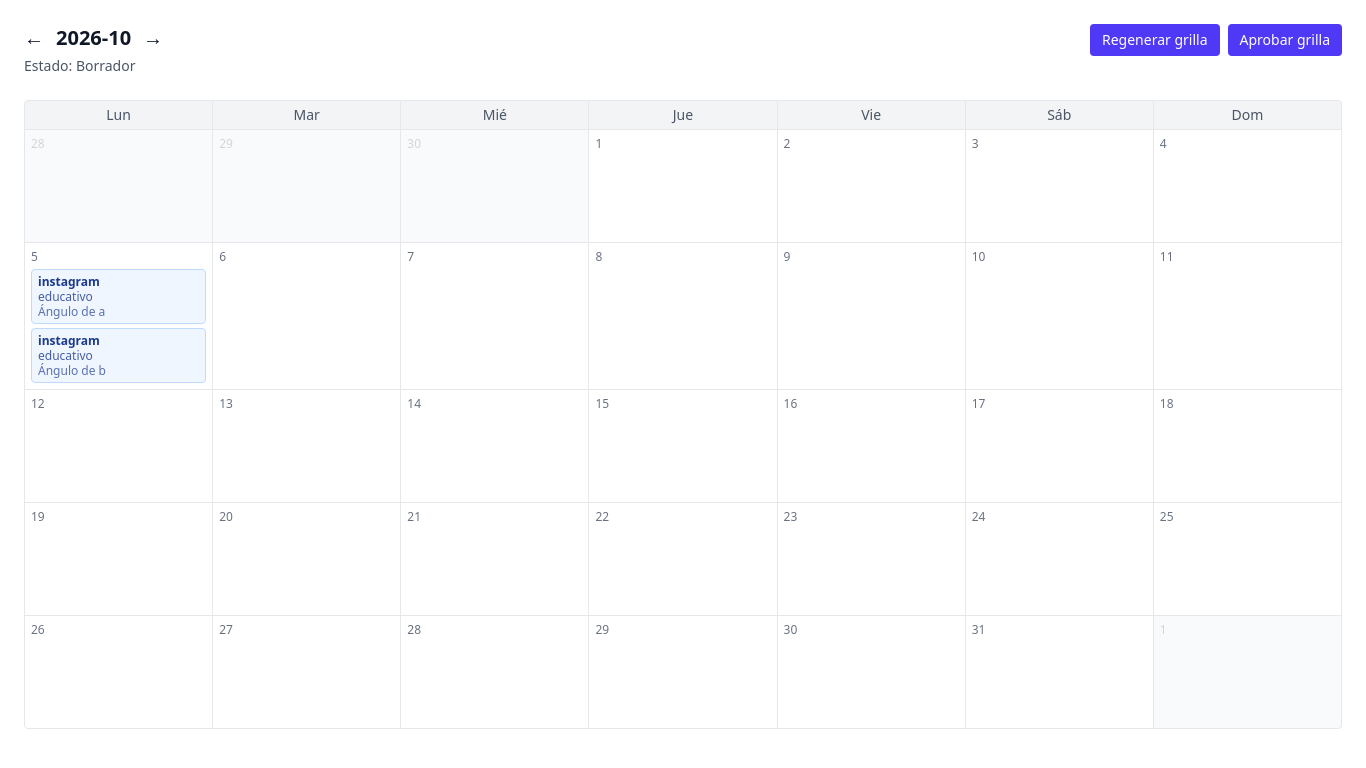
la advertencia de regenerar la grilla › no habla de descartes cuando no hay ninguno
Click the button "Regenerar grilla".
click(1155, 40)  # box [1090,24,1220,56]
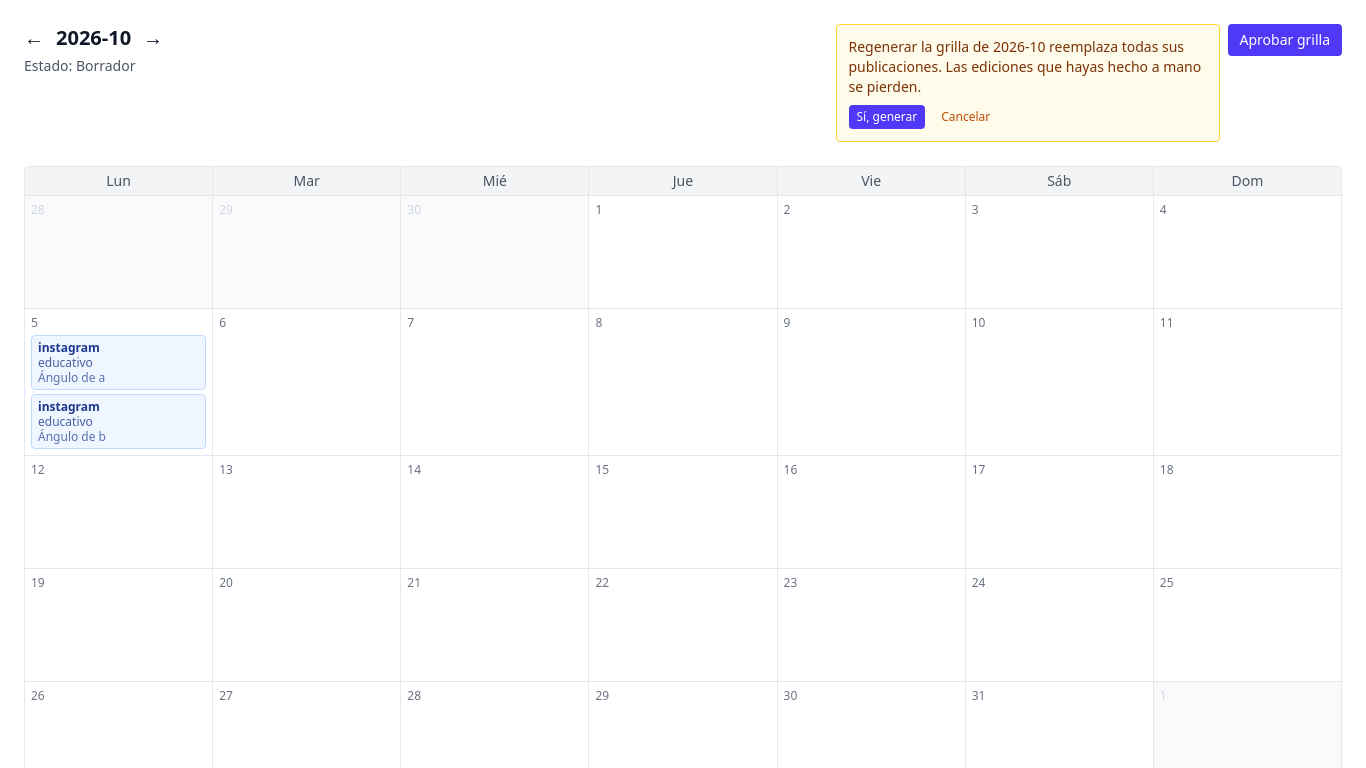
Check: the text "Las ediciones que hayas hecho a mano se pierden" is shown, box [848,37,1201,96]
